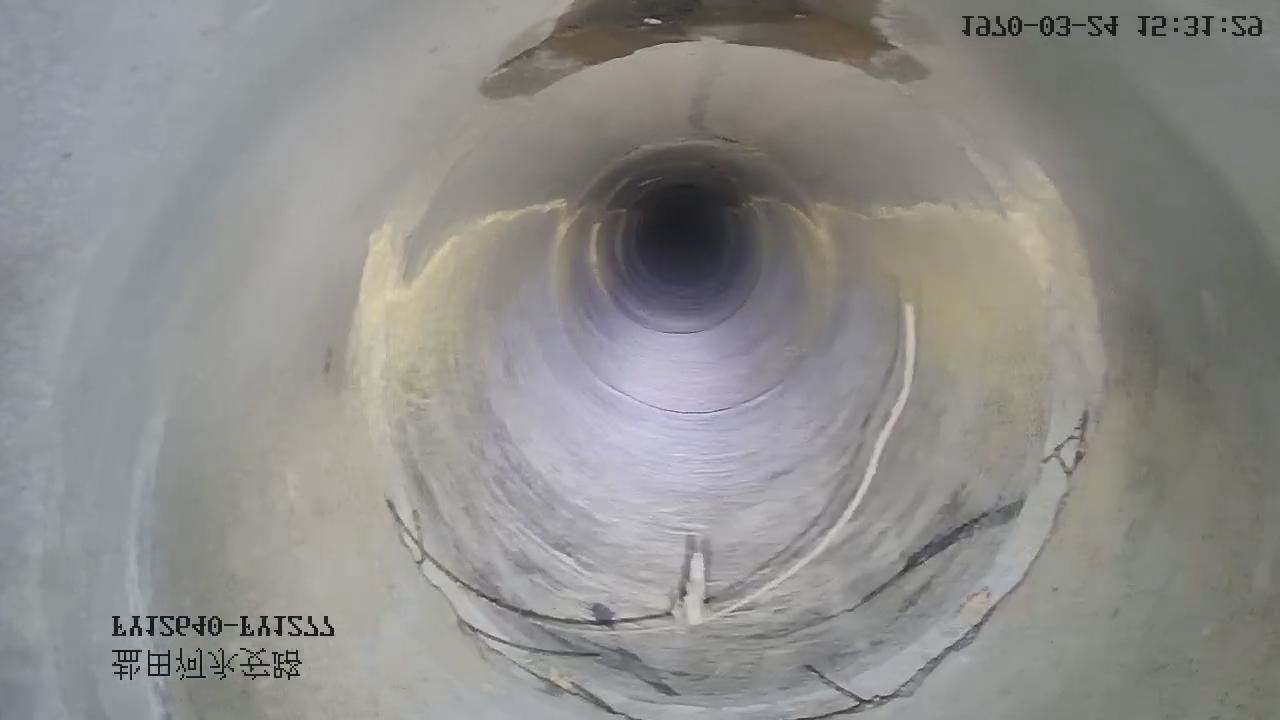JKCL: (402, 304, 913, 634)
